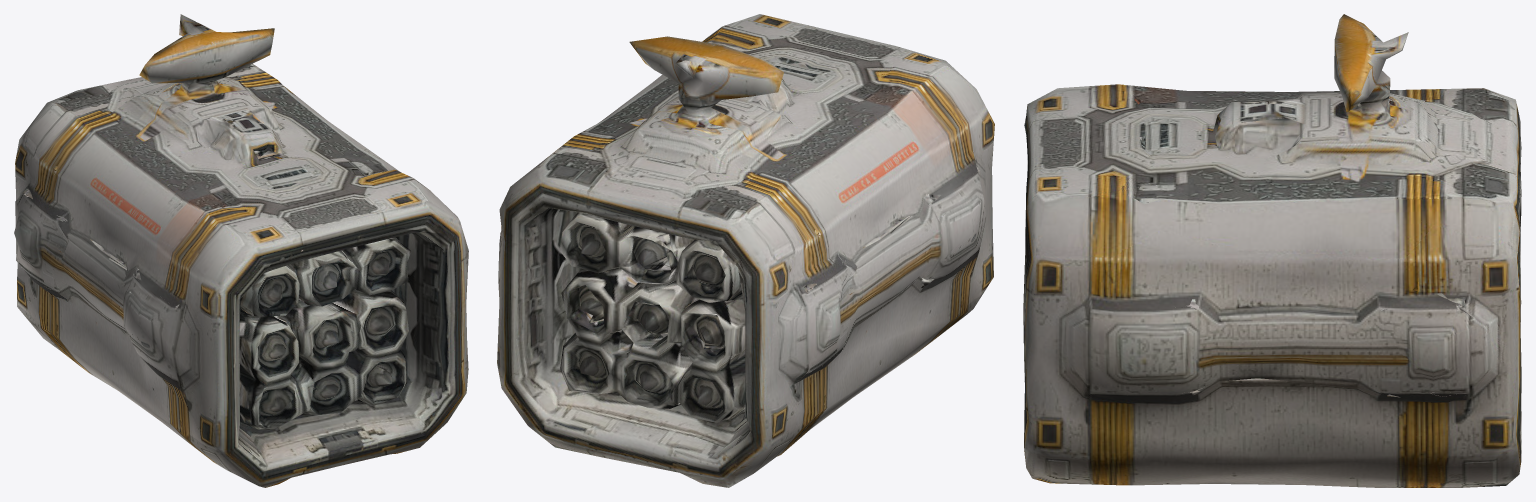
3 renders of one model, left to right at view 1: azimuth 30°, elevation 25°; view 2: azimuth 150°, elevation 25°; view 3: azimuth 270°, elevation 25°, orthographic. The views are drawn at different scales.
Bounding box in the file's own units: 0.8464 × 0.8862 × 0.9805.
1 material, 1 textured.
